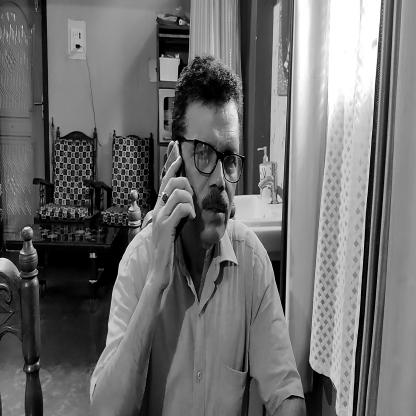Distracted: (167, 53, 245, 255)
